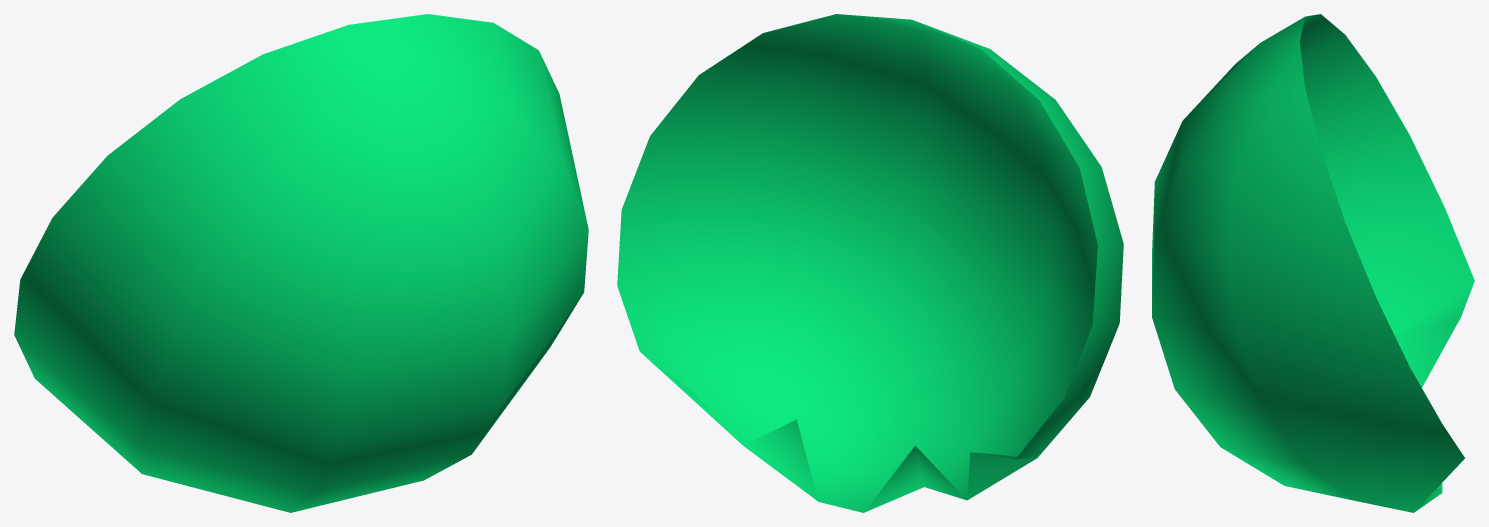
Rendered from Phalactory 2.fbx.
The picture shows the model from 3 angles, left to right: view 1: azimuth 30°, elevation 25°; view 2: azimuth 150°, elevation 25°; view 3: azimuth 270°, elevation 25°; orthographic projection. The views are drawn at different scales.
Visible parts, largest first — view 1: polySurface6; view 2: polySurface6; view 3: polySurface6.
Boxes of the visible parts, x1=… form: polySurface6: x1=14, y1=14, x2=588, y2=512; polySurface6: x1=617, y1=14, x2=1123, y2=512; polySurface6: x1=1152, y1=14, x2=1474, y2=512.
Bounding box in the file's own units: 0.5917 × 0.5237 × 0.3482.
